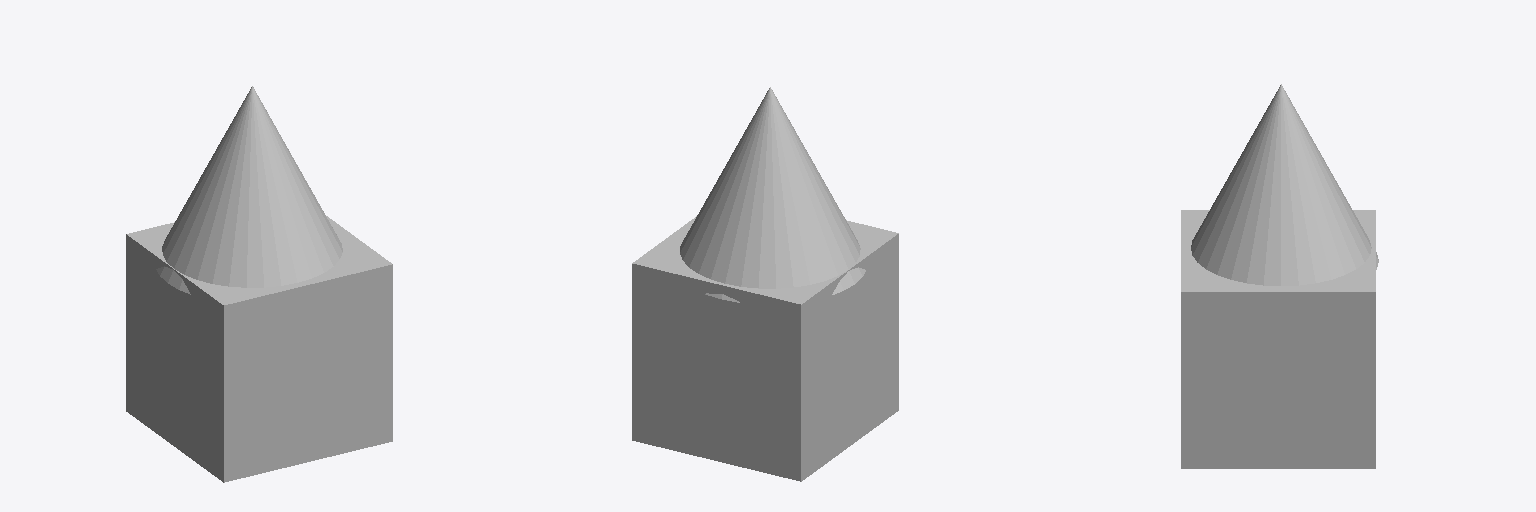
Rendered from coneoncube.obj.
The picture shows the model from 3 angles: view 1: azimuth 30°, elevation 25°; view 2: azimuth 150°, elevation 25°; view 3: azimuth 270°, elevation 25°; orthographic projection.
Visible parts, largest first — view 1: Cube, Cone; view 2: Cube, Cone; view 3: Cube, Cone.
Part boxes in pixels (bbox=[...]): Cube: bbox=[126, 216, 392, 482]; Cone: bbox=[156, 86, 342, 294]; Cube: bbox=[632, 216, 898, 481]; Cone: bbox=[680, 87, 865, 302]; Cube: bbox=[1181, 210, 1375, 468]; Cone: bbox=[1191, 84, 1378, 285].
Bounding box in the file's own units: 11.52 × 21.46 × 11.28.